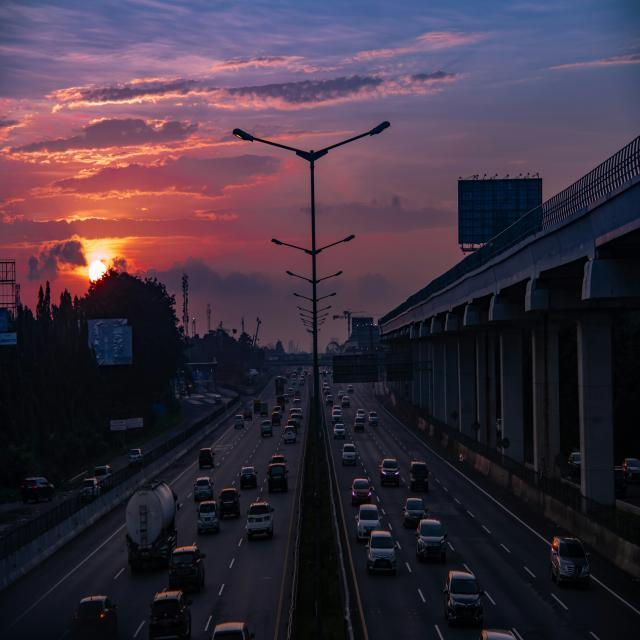Car: (148, 590, 193, 640), (443, 570, 483, 626), (550, 536, 590, 586), (168, 543, 206, 592), (74, 595, 117, 636), (414, 518, 448, 562), (365, 530, 397, 574), (246, 501, 274, 539), (355, 504, 381, 540), (21, 477, 54, 503), (211, 621, 254, 640), (402, 497, 428, 528), (197, 501, 220, 534), (218, 488, 241, 518), (266, 463, 288, 493), (410, 461, 429, 491), (380, 458, 400, 486), (351, 478, 371, 505), (194, 476, 214, 501), (80, 477, 100, 501), (622, 458, 640, 481), (94, 464, 112, 486), (240, 466, 257, 489), (342, 443, 358, 466), (568, 452, 581, 477), (199, 448, 215, 468), (128, 448, 142, 464), (283, 426, 296, 443), (260, 420, 272, 437), (331, 405, 342, 423), (333, 423, 346, 438), (354, 415, 365, 432), (368, 410, 378, 426), (271, 454, 286, 464), (234, 414, 244, 428), (271, 412, 281, 426), (260, 402, 268, 416), (244, 408, 252, 420), (356, 409, 365, 419), (326, 393, 333, 405), (342, 396, 349, 407), (293, 398, 301, 407), (215, 394, 222, 404), (347, 384, 354, 393)
Truck: (125, 480, 179, 571)
